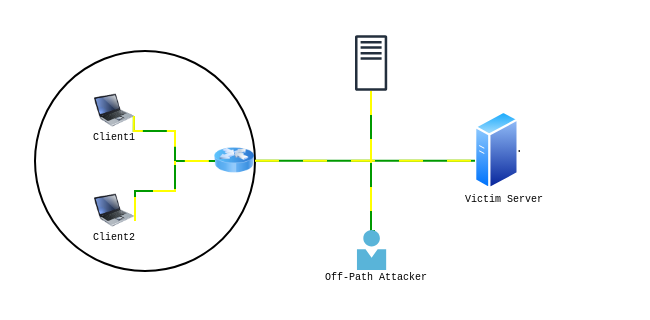
Some shapes in this 650 by 320 pixel diagram are drawn without their labels. The centre of each missing label's shape, as x and y in pixels:
"NAT-Router" belongs at pixel 234 160.
"Vantage Point" belongs at pixel 370 62.
